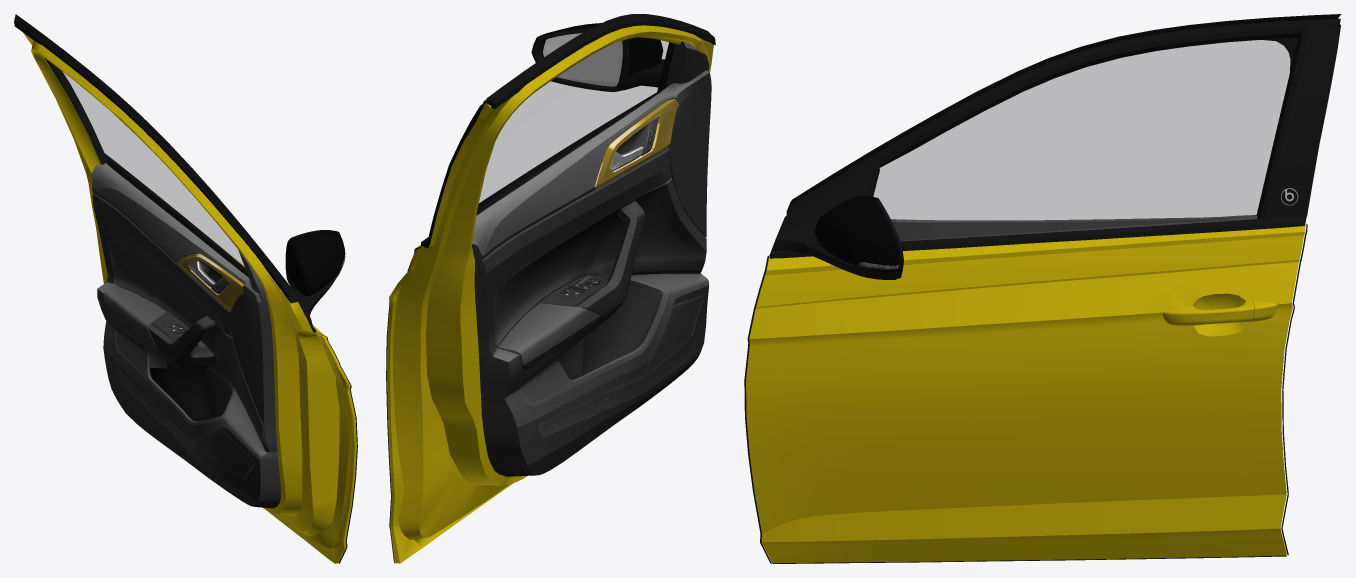
File: door_lf.glb
The picture shows the model from 3 angles, left to right: view 1: azimuth 30°, elevation 25°; view 2: azimuth 150°, elevation 25°; view 3: azimuth 270°, elevation 25°; orthographic projection. The views are drawn at different scales.
Visible parts, largest first — view 1: 38_lf_door_inner_map_c_inner_door_0, 02_car_body_lf_door_carpaint_C1_0, 34_lf_door_plastic_plastic_0, 33_lf_door_glass_Default OBJ.012_0, 89_car_body_lf_door_car_paint_c2_0; view 2: 38_lf_door_inner_map_c_inner_door_0, 02_car_body_lf_door_carpaint_C1_0, 33_lf_door_glass_Default OBJ.012_0, 34_lf_door_plastic_plastic_0, 37_lf_door_mirror_mirror_0, 89_car_body_lf_door_car_paint_c2_0, 35_lf_door_black_plastic_plastic_0; view 3: 02_car_body_lf_door_carpaint_C1_0, 33_lf_door_glass_Default OBJ.012_0, 34_lf_door_plastic_plastic_0, 35_lf_door_black_plastic_plastic_0, 38_lf_door_inner_map_c_inner_door_0, 89_car_body_lf_door_car_paint_c2_0, 84_lf_door_plastic_line_plastic_0.
Boxes of the visible parts, x1,y1,x2,y2 form: 38_lf_door_inner_map_c_inner_door_0: [91, 163, 345, 508]; 02_car_body_lf_door_carpaint_C1_0: [23, 32, 356, 563]; 34_lf_door_plastic_plastic_0: [14, 14, 342, 332]; 33_lf_door_glass_Default OBJ.012_0: [63, 72, 247, 275]; 89_car_body_lf_door_car_paint_c2_0: [286, 230, 345, 296]; 38_lf_door_inner_map_c_inner_door_0: [471, 41, 711, 476]; 02_car_body_lf_door_carpaint_C1_0: [386, 25, 713, 563]; 33_lf_door_glass_Default OBJ.012_0: [478, 37, 669, 208]; 34_lf_door_plastic_plastic_0: [421, 14, 715, 247]; 37_lf_door_mirror_mirror_0: [543, 33, 622, 86]; 89_car_body_lf_door_car_paint_c2_0: [531, 23, 663, 75]; 35_lf_door_black_plastic_plastic_0: [427, 105, 483, 243]; 02_car_body_lf_door_carpaint_C1_0: [746, 215, 1305, 563]; 33_lf_door_glass_Default OBJ.012_0: [873, 33, 1302, 240]; 34_lf_door_plastic_plastic_0: [769, 14, 1341, 279]; 35_lf_door_black_plastic_plastic_0: [1266, 24, 1340, 218]; 38_lf_door_inner_map_c_inner_door_0: [858, 168, 1257, 269]; 89_car_body_lf_door_car_paint_c2_0: [814, 195, 900, 265]; 84_lf_door_plastic_line_plastic_0: [744, 223, 1307, 563].
Bounding box in the file's own units: 0.4338 × 1.1 × 1.2.
7 materials, 1 textured.
